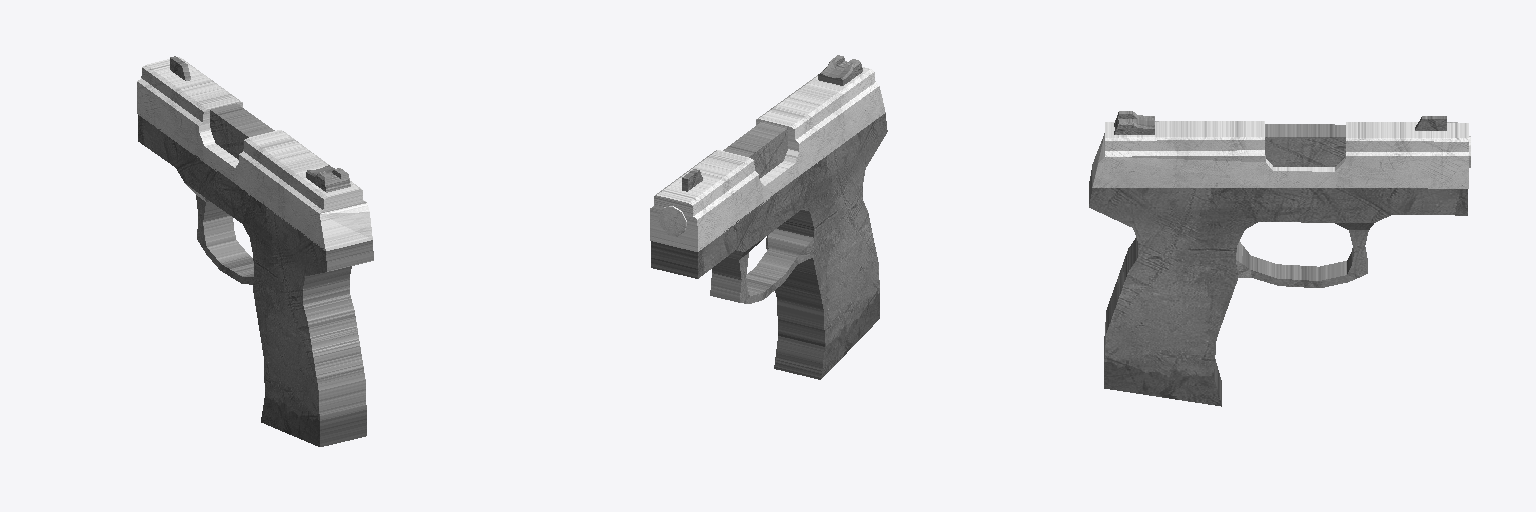
3 views of the same model, side by side, from view 1: azimuth 30°, elevation 25°; view 2: azimuth 150°, elevation 25°; view 3: azimuth 270°, elevation 25° (orthographic).
Visible parts, largest first — view 1: Cube; view 2: Cube; view 3: Cube.
Part boxes in pixels (left/top/right/bottom): Cube: left=137, top=56, right=373, bottom=446; Cube: left=650, top=55, right=887, bottom=379; Cube: left=1089, top=111, right=1470, bottom=406.
Size of the model in its own units: 0.5278 by 2.92 by 3.63.
Materials: 2 (1 with a texture image).